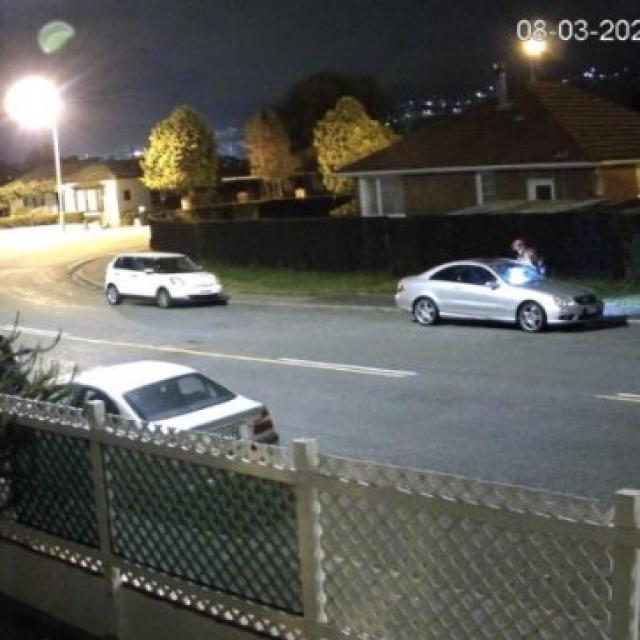car: (35, 360, 282, 510), (393, 256, 604, 334), (101, 251, 222, 312)
